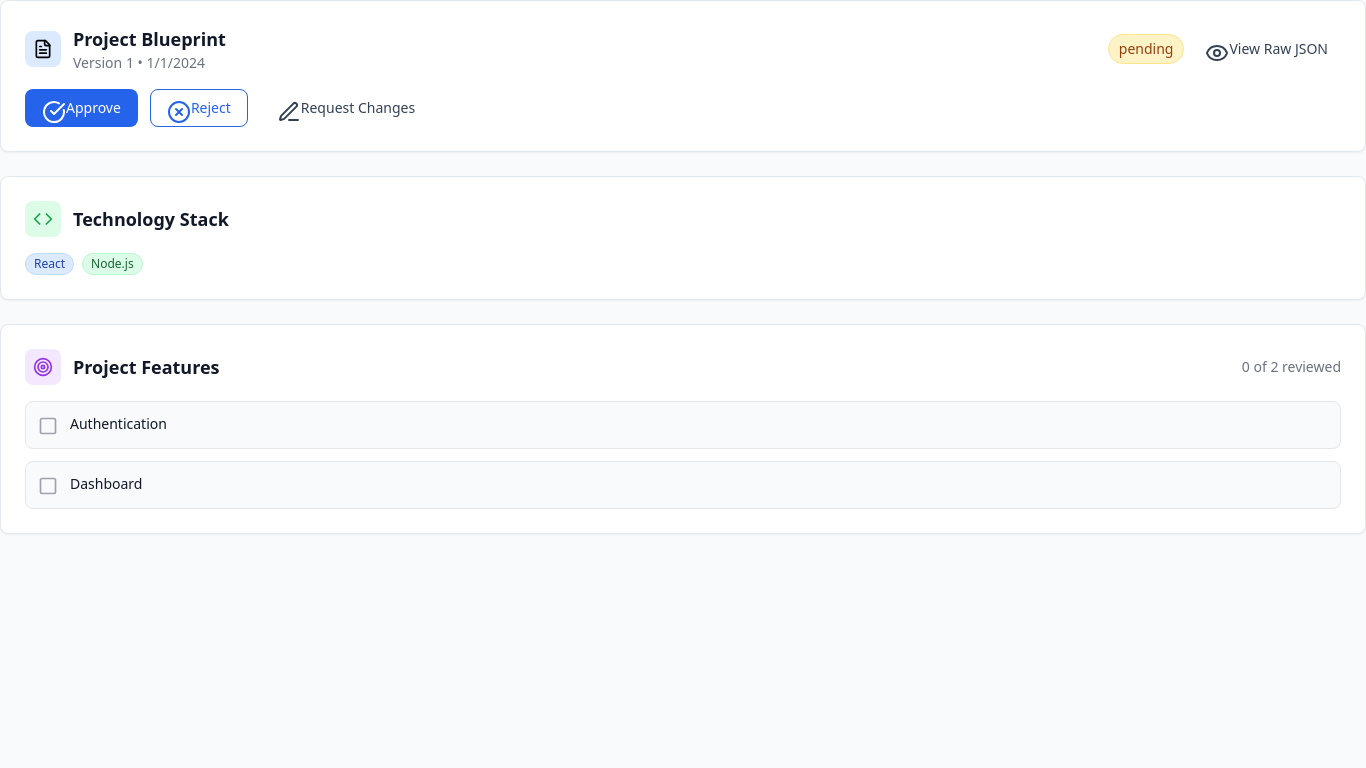
AIResponseViewer › Raw JSON Toggle › toggles raw JSON view
What coordinates should you click on to do the following:
click the button "View Raw JSON"
I would click on:
 (1267, 49)
Its box is [1192,32,1341,66].
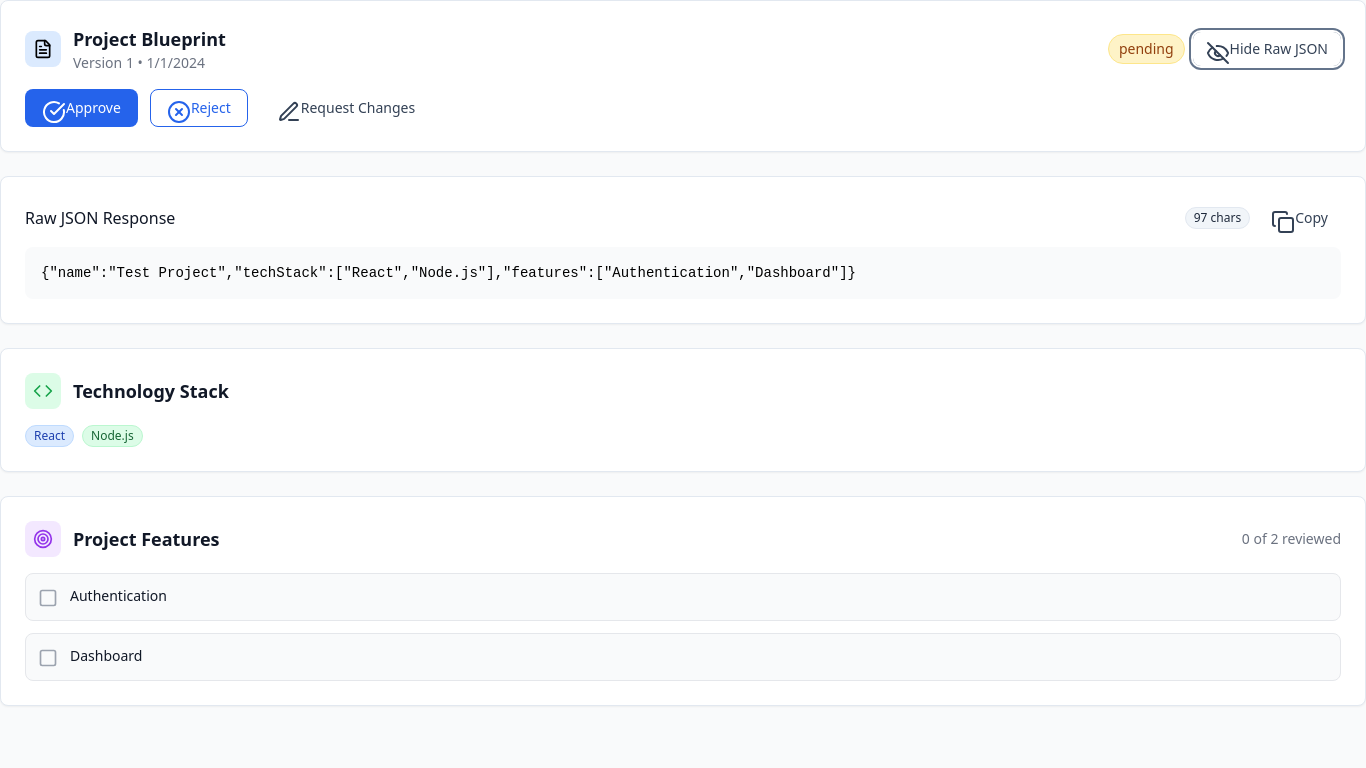
Now the heading "Raw JSON Response" is shown, box [25,206,175,230]
Now the button "Hide Raw JSON" is shown, box [1193,32,1341,66]
